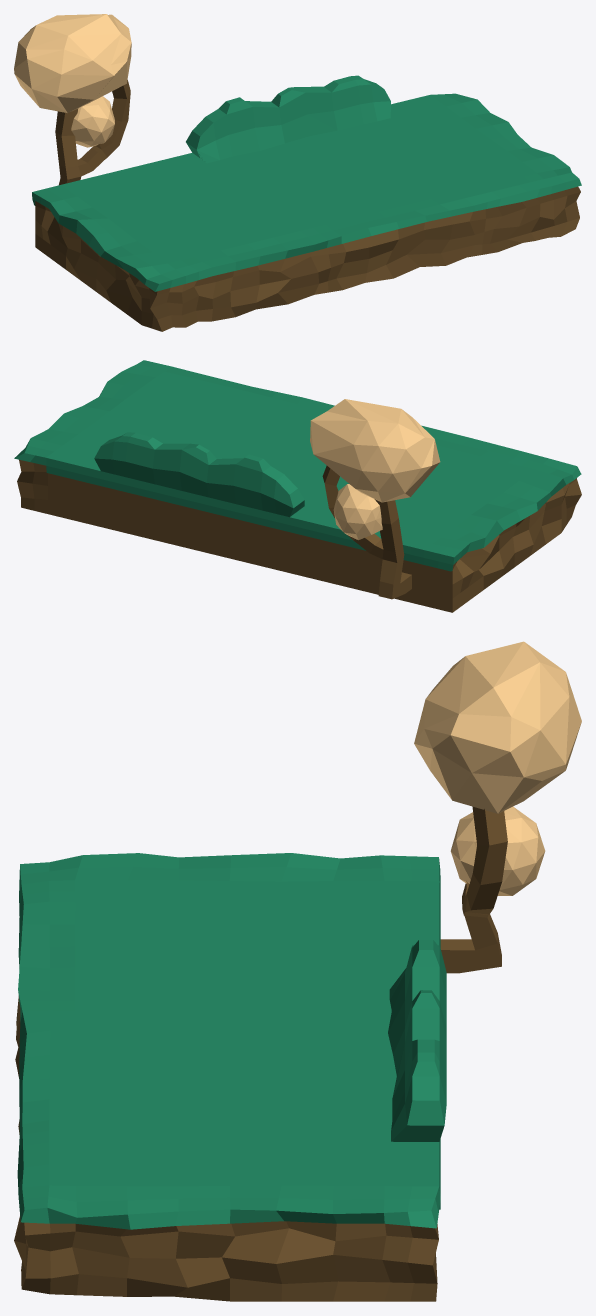
File: LargeGrassTree.fbx
3 views of the same model, one above another, from view 1: azimuth 30°, elevation 25°; view 2: azimuth 150°, elevation 25°; view 3: azimuth 270°, elevation 25° (orthographic). The views are drawn at different scales.
Parts seen in each view (by area): view 1: LargeGrassTreesBushes; view 2: LargeGrassTreesBushes; view 3: LargeGrassTreesBushes.
Part boxes in pixels (left/top/right/bottom): LargeGrassTreesBushes: left=14, top=14, right=581, bottom=331; LargeGrassTreesBushes: left=14, top=360, right=581, bottom=612; LargeGrassTreesBushes: left=14, top=641, right=581, bottom=1301.
Size of the model in its own units: 16.67 by 7.25 by 11.03.
